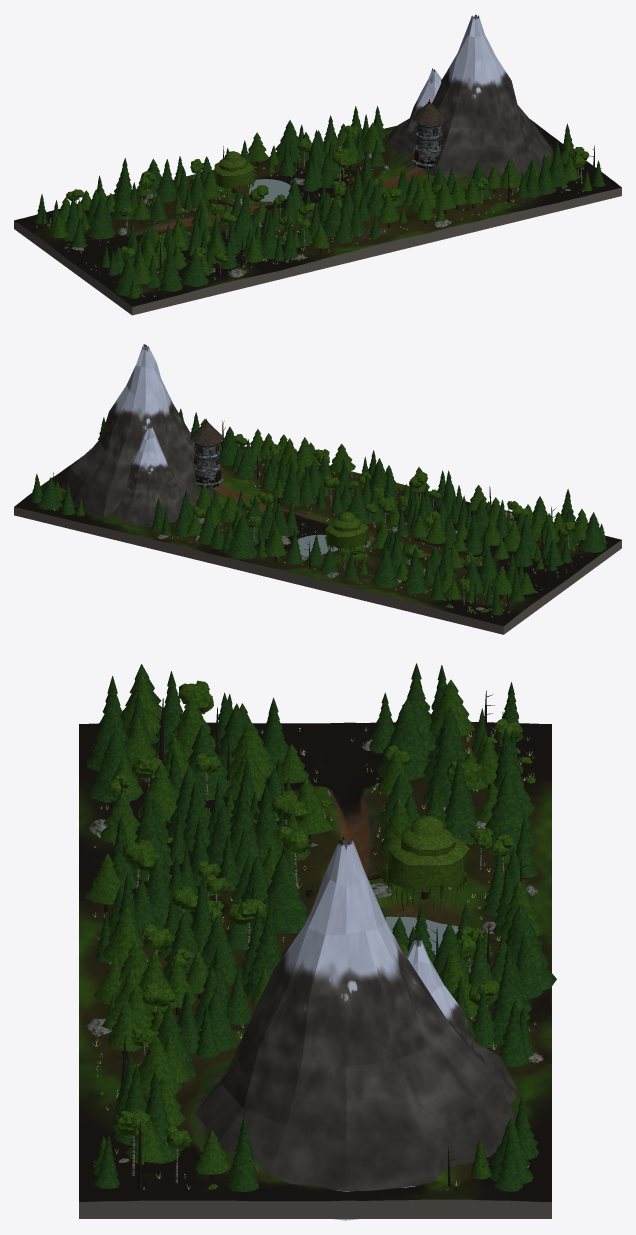
The model's file is forest_watchtower.glb.
3 renders of one model, top to bottom at view 1: azimuth 30°, elevation 25°; view 2: azimuth 150°, elevation 25°; view 3: azimuth 270°, elevation 25°, orthographic. The views are drawn at different scales.
Parts seen in each view (by area): view 1: Forest_Terrain, Forest_Mountain, Willow, Watchtower_Stone, Tree.097, Tree.138, Tree.141, Tree.059, Tree.087, Forest_Pond, Tree.006, Tree.044 (+5 smaller); view 2: Forest_Terrain, Forest_Mountain, Willow, Watchtower_Stone, Tree.138, Tree.021, Tree.087, Tree.047, Tree.154, Tree.171, Watchtower_RoofShingles, Forest_Pond (+7 smaller); view 3: Forest_Terrain, Forest_Mountain, Willow, Tree.214, Tree.097, Tree.021, Tree.138, Tree.044, Tree.006, Tree.141, Tree.154, Tree.059 (+58 smaller).
Part boxes in pixels (bbox=[...]): Forest_Terrain: bbox=[14, 119, 621, 315]; Forest_Mountain: bbox=[385, 14, 552, 177]; Willow: bbox=[214, 151, 255, 198]; Watchtower_Stone: bbox=[413, 123, 442, 168]; Tree.097: bbox=[86, 196, 115, 238]; Tree.138: bbox=[275, 120, 301, 163]; Tree.141: bbox=[159, 244, 182, 291]; Tree.059: bbox=[181, 250, 208, 286]; Tree.087: bbox=[114, 256, 143, 296]; Forest_Pond: bbox=[248, 179, 290, 202]; Tree.006: bbox=[111, 171, 134, 219]; Tree.044: bbox=[155, 159, 176, 202]; Forest_Terrain: bbox=[14, 441, 621, 634]; Forest_Mountain: bbox=[61, 344, 224, 526]; Willow: bbox=[325, 511, 368, 556]; Watchtower_Stone: bbox=[193, 443, 222, 488]; Tree.138: bbox=[226, 514, 257, 559]; Tree.021: bbox=[371, 548, 398, 587]; Tree.087: bbox=[579, 512, 606, 552]; Tree.047: bbox=[403, 547, 427, 593]; Tree.154: bbox=[279, 459, 300, 506]; Tree.171: bbox=[219, 426, 242, 465]; Watchtower_RoofShingles: bbox=[190, 422, 222, 444]; Forest_Pond: bbox=[297, 534, 339, 557]; Forest_Terrain: bbox=[79, 722, 551, 1218]; Forest_Mountain: bbox=[195, 836, 517, 1220]; Willow: bbox=[382, 815, 469, 914]; Tree.214: bbox=[263, 853, 307, 933]; Tree.097: bbox=[376, 698, 429, 780]; Tree.021: bbox=[484, 772, 536, 851]; Tree.138: bbox=[505, 904, 556, 990]; Tree.044: bbox=[445, 757, 477, 844]; Tree.006: bbox=[423, 709, 472, 807]; Tree.141: bbox=[86, 676, 133, 771]; Tree.154: bbox=[243, 905, 281, 998]; Tree.059: bbox=[88, 729, 143, 802].
Bounding box in the file's own units: 110 × 33.01 × 46.52.
21 materials, 14 textured.
